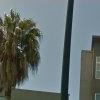Palm tree: (1, 6, 43, 100)
